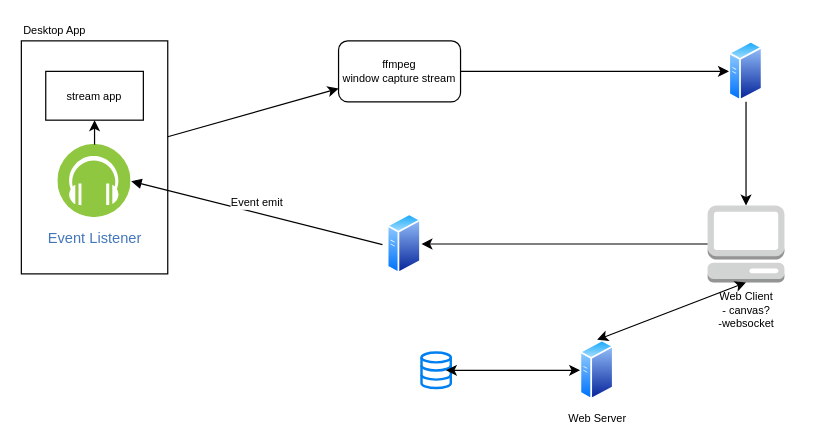
Image size: 817x447. Some labels were removed from this diagram. Each missing label, with the centre of its shape:
"Database" goes at point 435,370.
"Media Server -ngnix_rtmp_module" goes at point 745,70.
"Request Server" goes at point 404,243.
